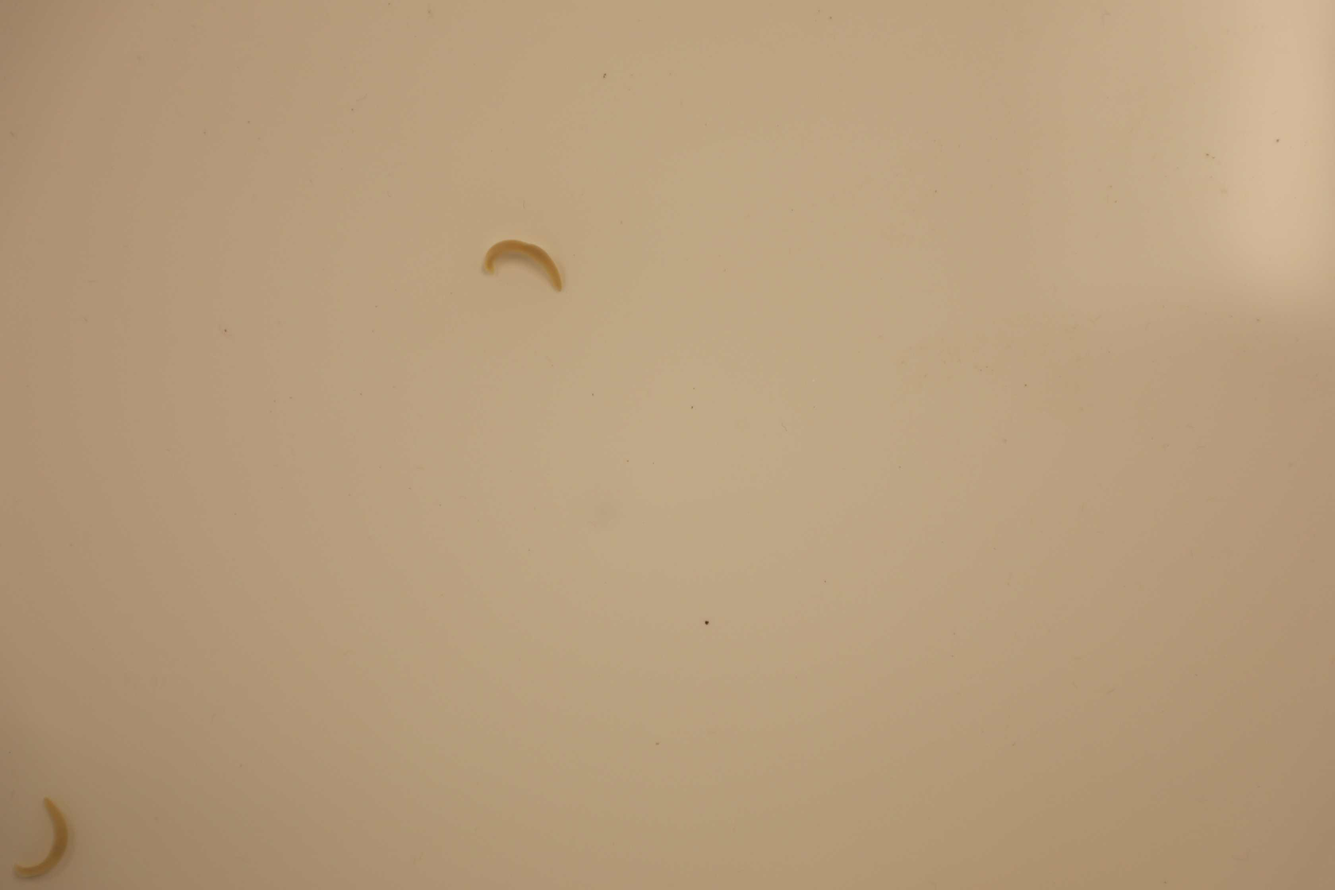Cadisfly: (15, 796, 65, 883), (484, 239, 561, 295)
